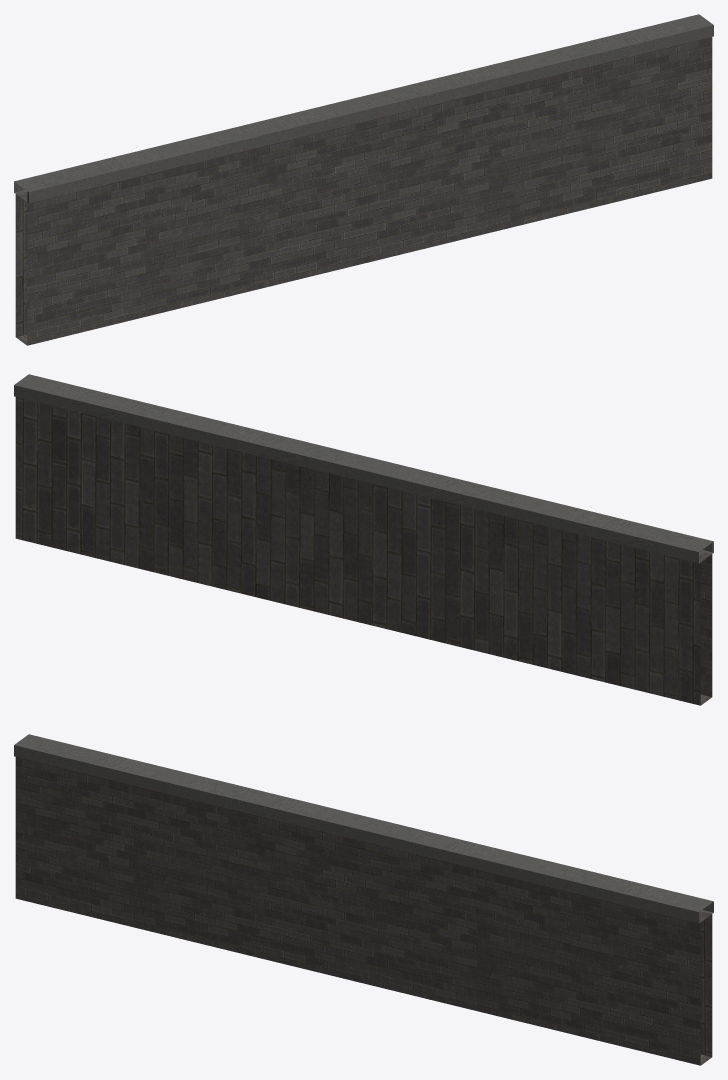
The model's file is Sm_Roof02b.fbx.
3 renders of one model, top to bottom at view 1: azimuth 30°, elevation 25°; view 2: azimuth 150°, elevation 25°; view 3: azimuth 330°, elevation 25°, orthographic.
Parts seen in each view (by area): view 1: Sm_Roof02b; view 2: Sm_Roof02b; view 3: Sm_Roof02b.
Boxes of the visible parts, bbox=[...] form: Sm_Roof02b: bbox=[14, 14, 713, 345]; Sm_Roof02b: bbox=[14, 374, 713, 705]; Sm_Roof02b: bbox=[14, 734, 713, 1065].
Bounding box in the file's own units: 500 × 18.81 × 108.
Materials: 2 (2 with a texture image).
